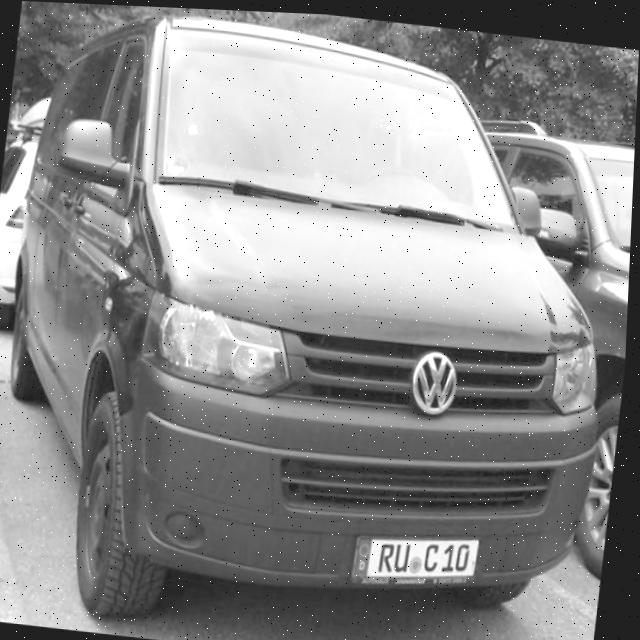license-plates: (352, 537, 480, 582)
